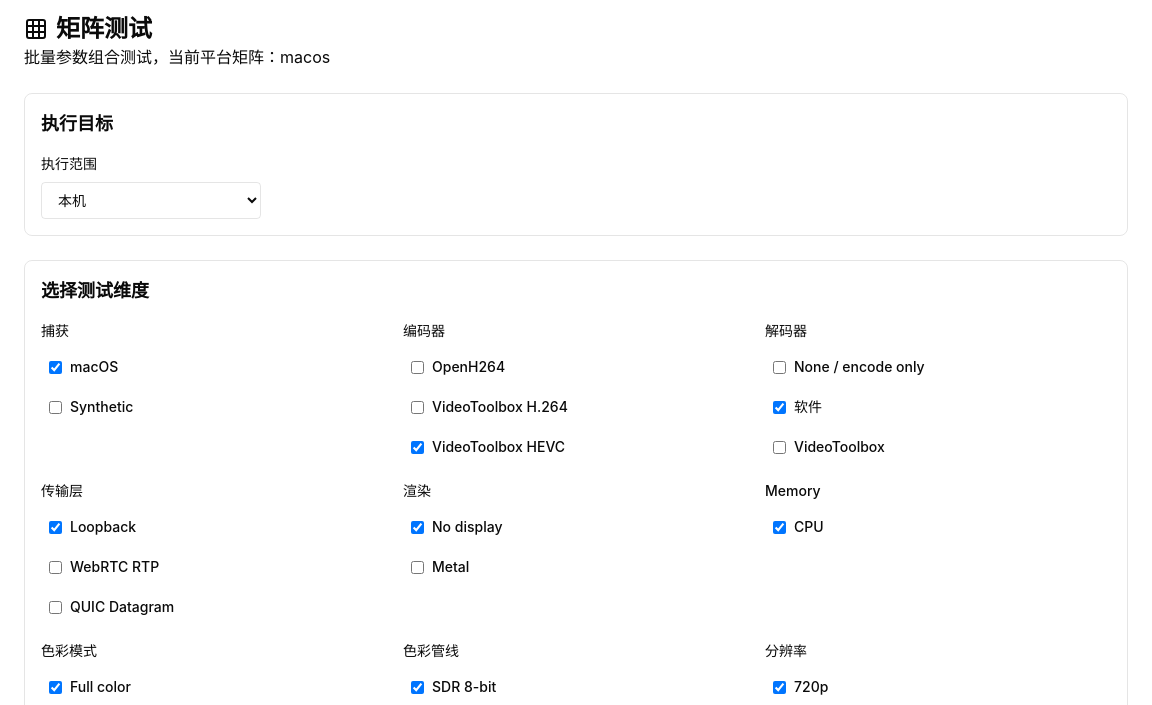
Scenario: MatrixTestPage failure handling › skips macOS HEVC VideoToolbox decode rows when only the H.264 decoder is available
The width and height of the screenshot is (1152, 705).
Click the checkbox labelled "VideoToolbox" at (780, 447), box x1=773 y1=440 x2=786 y2=454
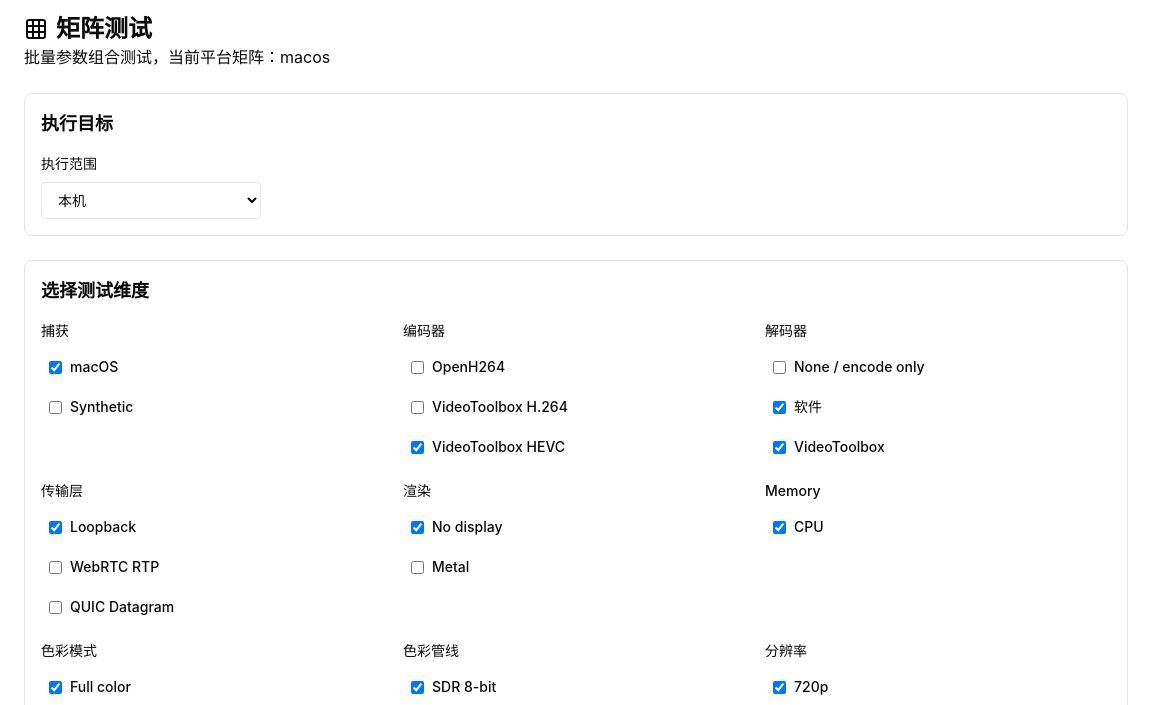
Click the checkbox labelled "软件" at (780, 407), box x1=773 y1=400 x2=786 y2=414
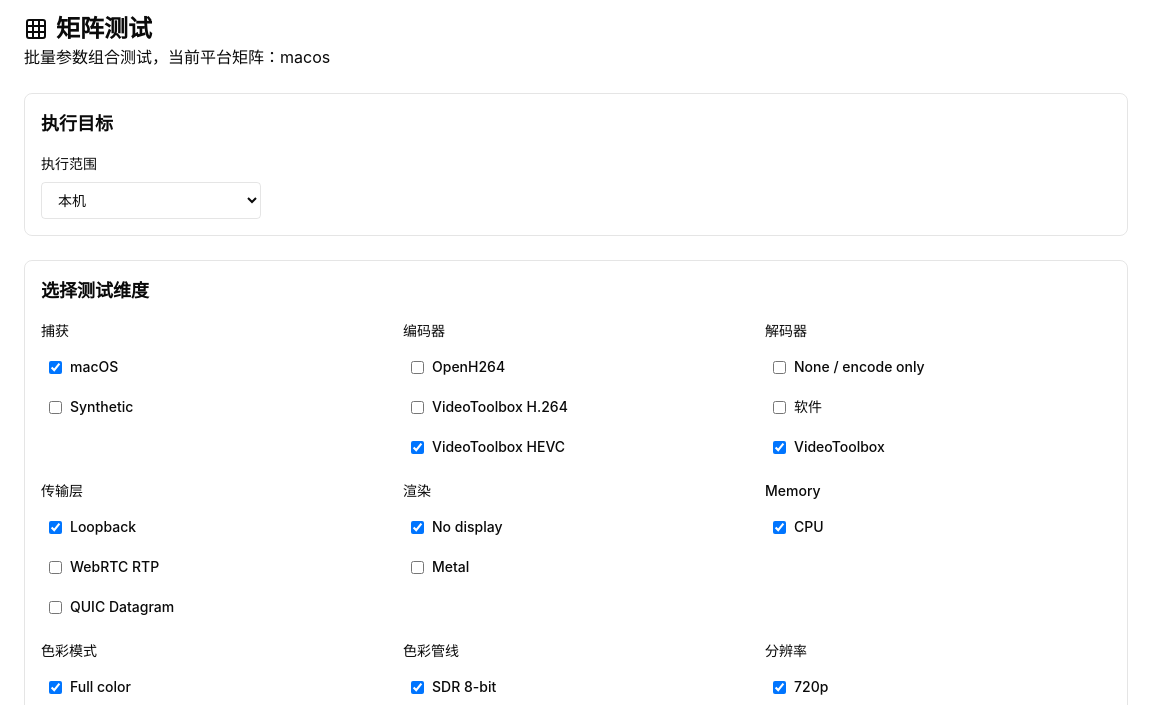
Click the checkbox labelled "720p" at (780, 687), box x1=773 y1=680 x2=786 y2=694
(page scrolled)
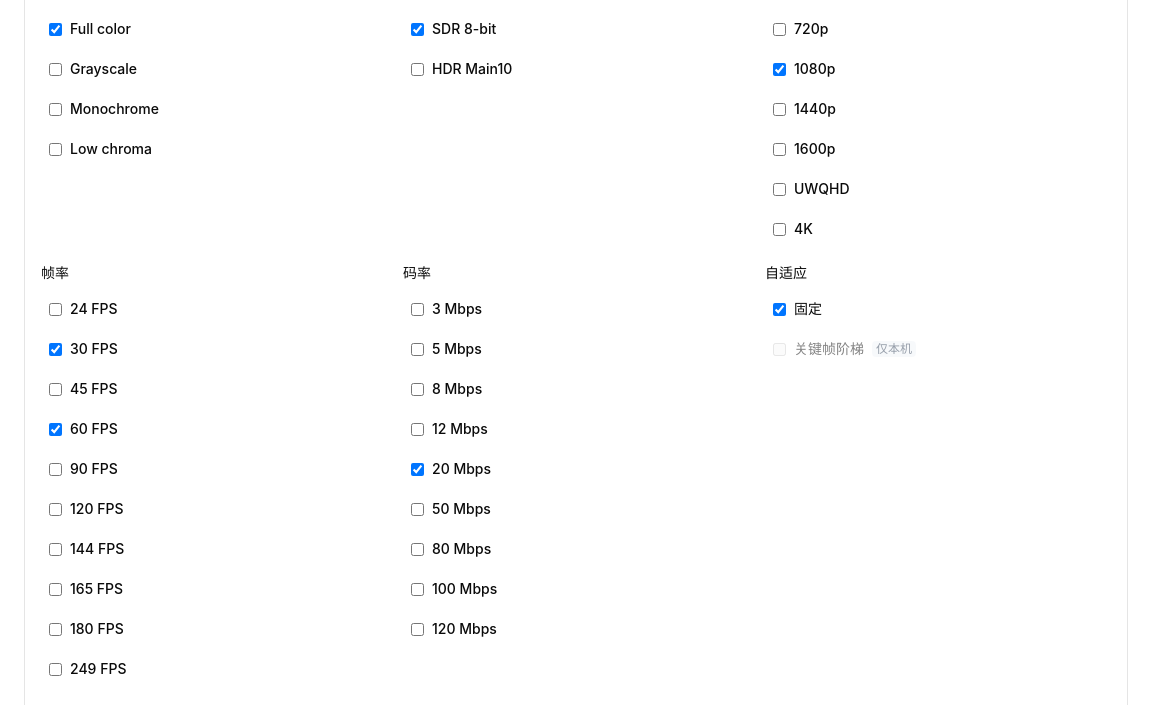
Click the checkbox labelled "30 FPS" at (56, 349), box x1=49 y1=342 x2=62 y2=356
(page scrolled)
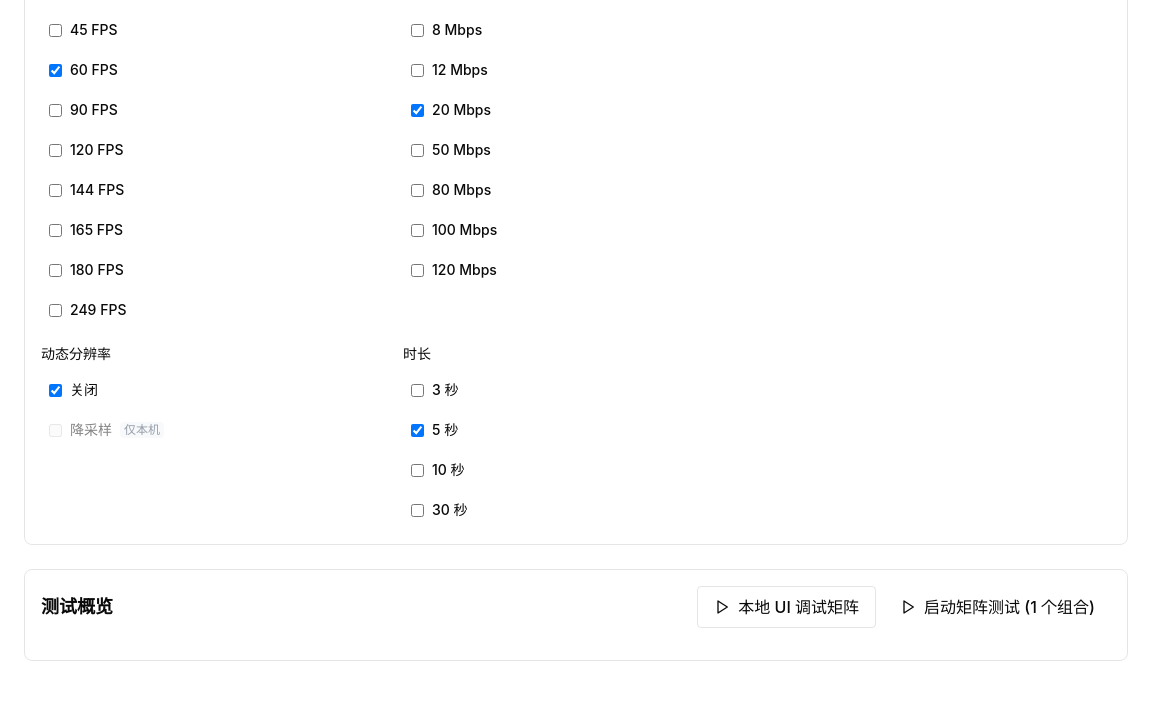
Click the button "启动矩阵测试 (1 个组合)" at (998, 607), box x1=884 y1=586 x2=1111 y2=628
(page scrolled)
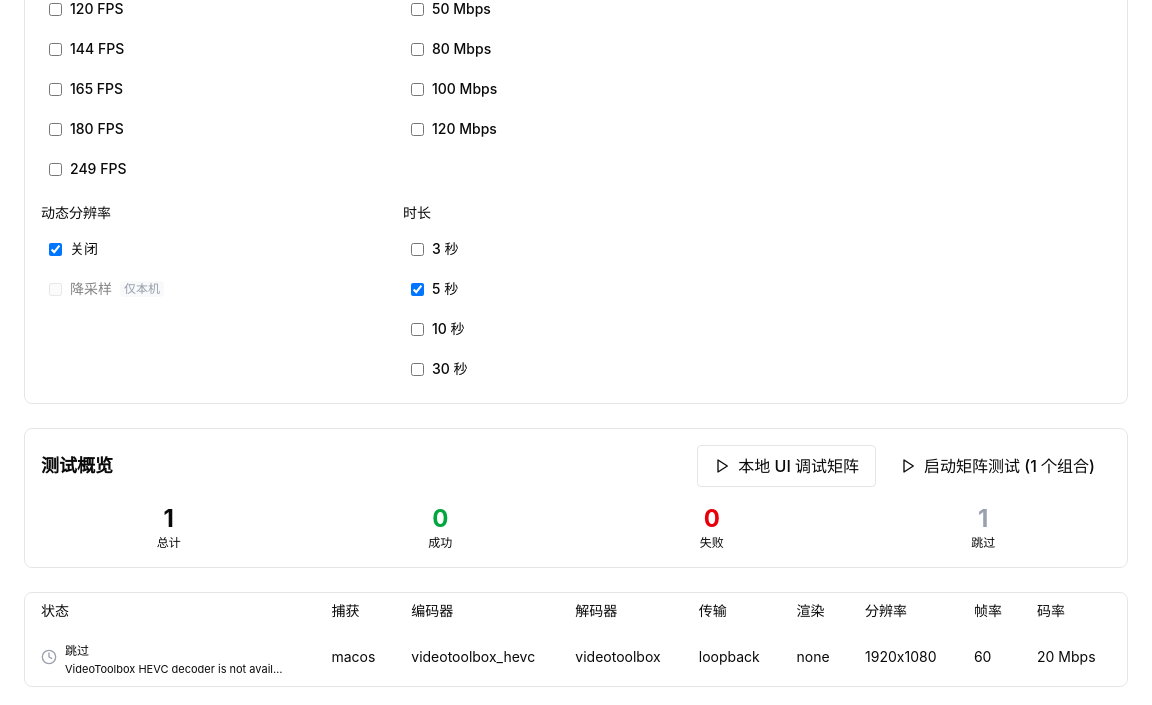
Now the text "VideoToolbox HEVC decoder is not available for this macOS capability snapshot" is shown, box x1=65 y1=661 x2=285 y2=678
